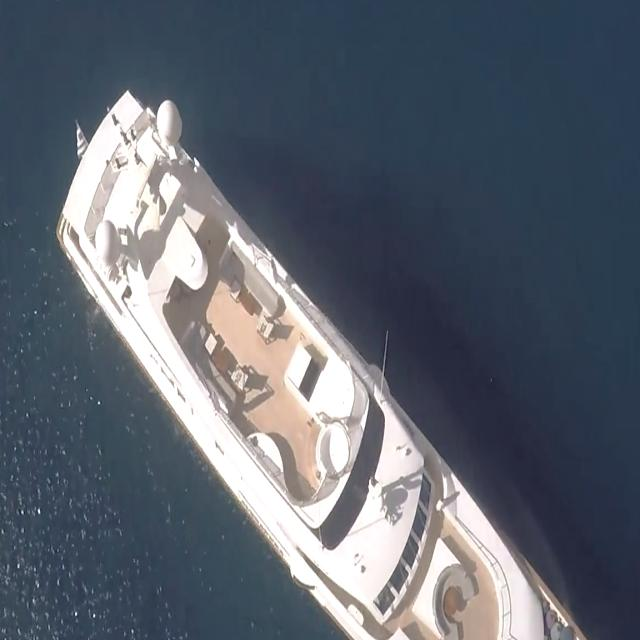ship: (62, 106, 615, 640)
